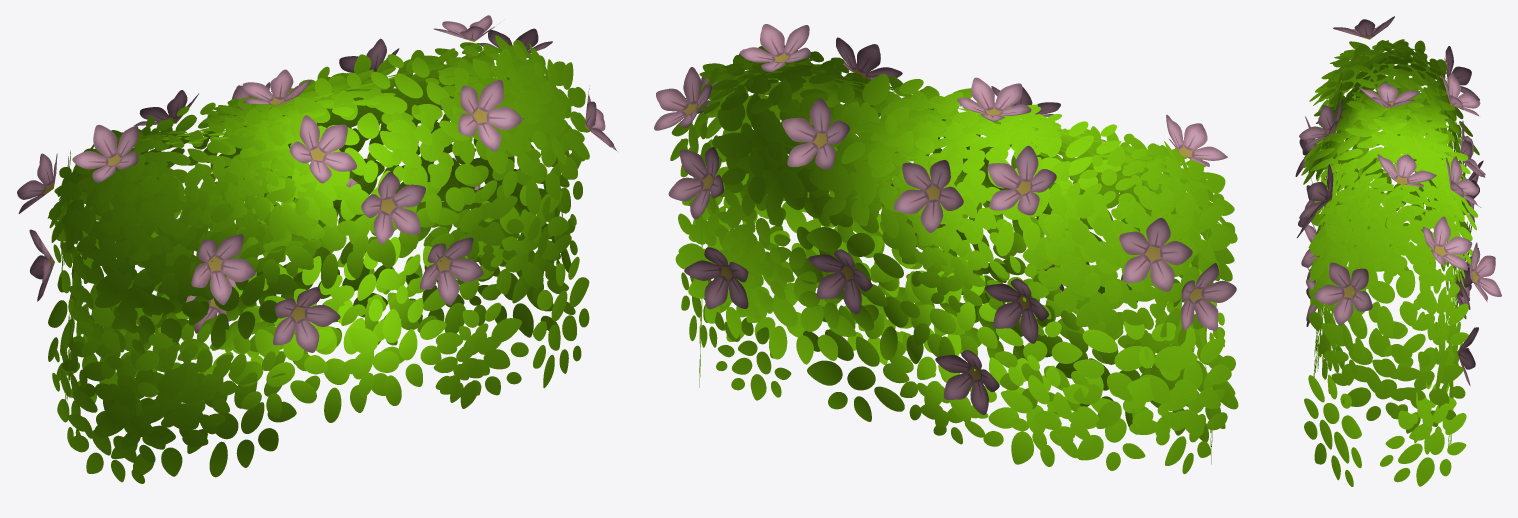
File: Bush_Large_Flowers.glb
The picture shows the model from 3 angles, left to right: view 1: azimuth 30°, elevation 25°; view 2: azimuth 150°, elevation 25°; view 3: azimuth 270°, elevation 25°; orthographic projection. The views are drawn at different scales.
Parts seen in each view (by area): view 1: Bush_Large_Flowers; view 2: Bush_Large_Flowers; view 3: Bush_Large_Flowers.
Boxes of the visible parts, x1,y1,x2,y2 form: Bush_Large_Flowers: (17,15,617,483); Bush_Large_Flowers: (654,24,1238,474); Bush_Large_Flowers: (1295,16,1501,486).
Size of the model in its own units: 1.93 by 1.26 by 0.7617.
Materials: 2 (2 with a texture image).
